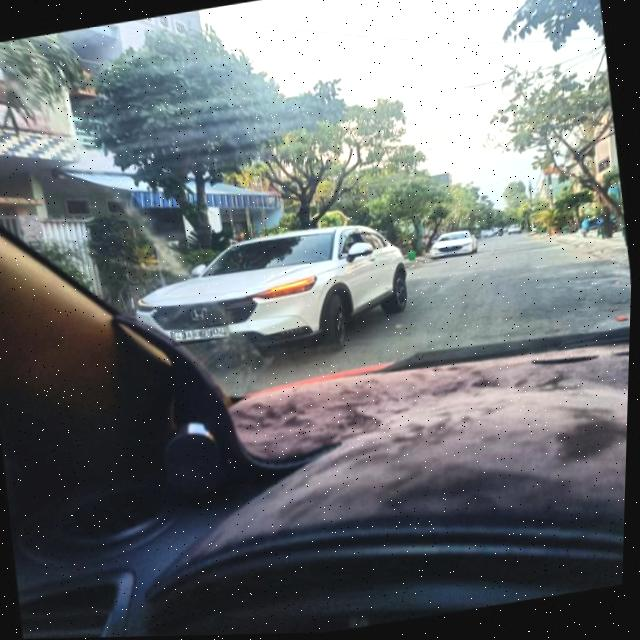car: (109, 213, 417, 383), (426, 223, 480, 261)
plate: (164, 318, 236, 349)
